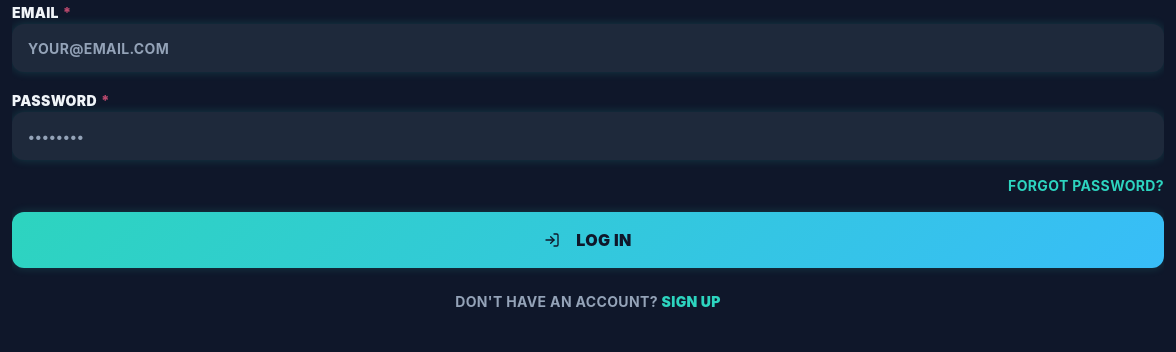
Test: AuthFormLogin › should validate password is not empty on submit
Type "test@example.com" into the field labelled "Email*" at (588, 48), box x1=12 y1=24 x2=1164 y2=72
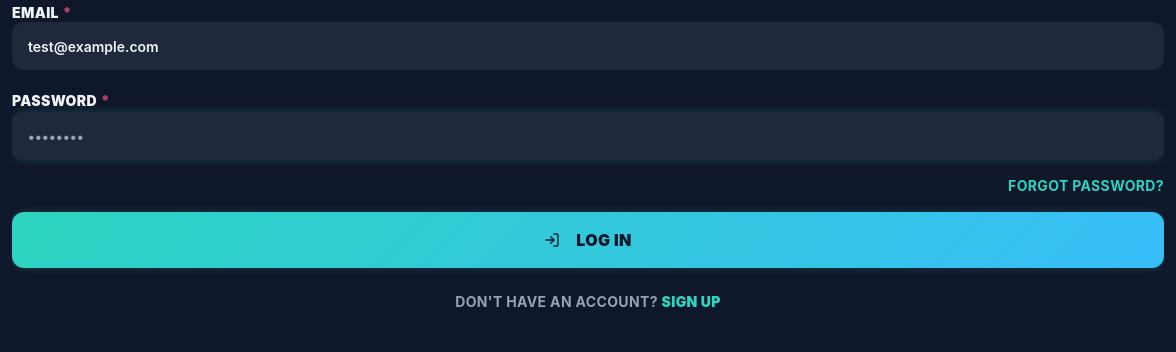
Click the button "Log In" at (588, 240), box x1=12 y1=212 x2=1164 y2=268
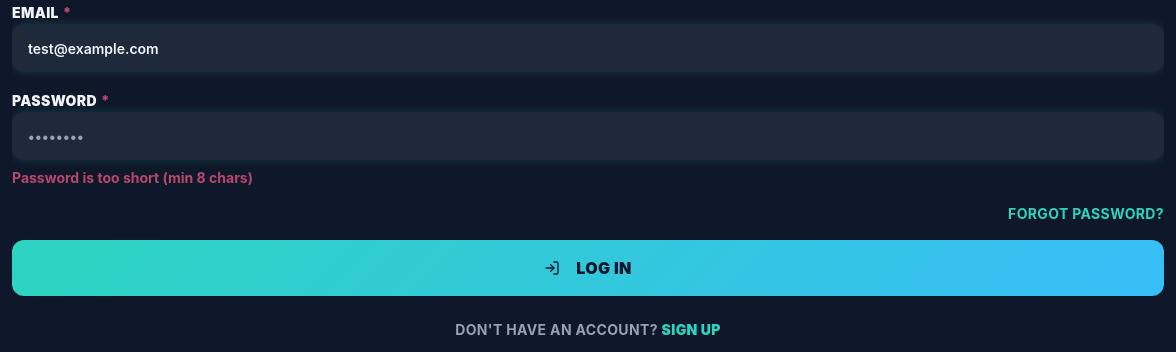
Expected: the text "Password is too short (min 8 chars)" is shown, x1=12 y1=169 x2=253 y2=186
